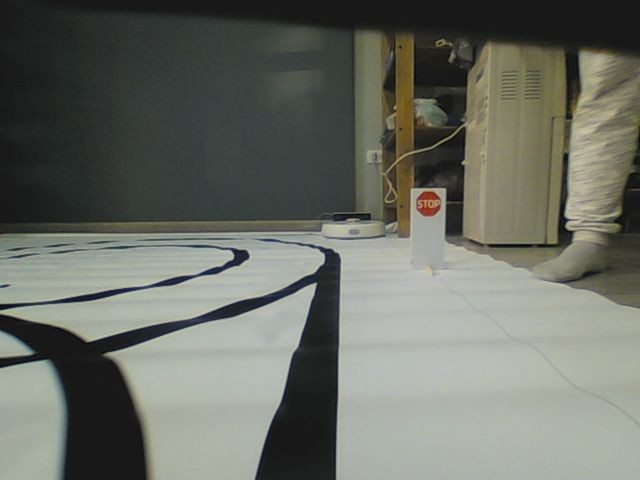Stop: (415, 190, 442, 218)
